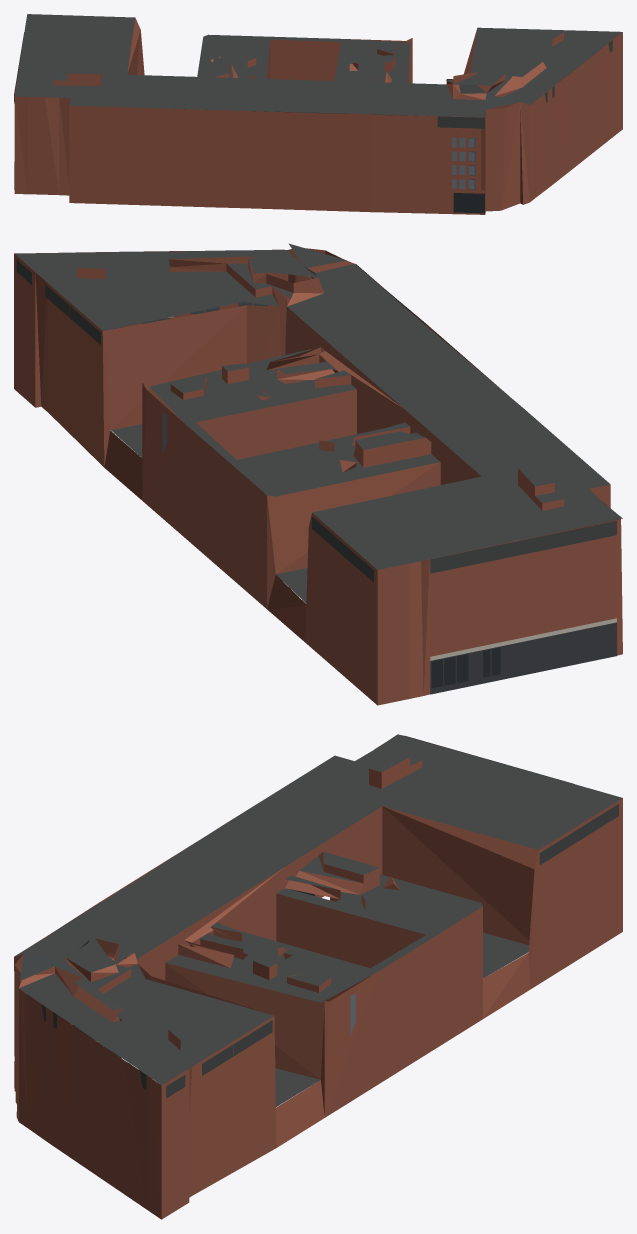
The model's file is jodenbreestraat-11.lod1.glb.
3 views of the same model, one above another, from view 1: azimuth 30°, elevation 25°; view 2: azimuth 150°, elevation 25°; view 3: azimuth 270°, elevation 25° (orthographic). The views are drawn at different scales.
Parts seen in each view (by area): view 1: jodenbreestraat-11; view 2: jodenbreestraat-11; view 3: jodenbreestraat-11.
Boxes of the visible parts, box(x1,y1,x2,y2) form: jodenbreestraat-11: box(14, 14, 622, 214); jodenbreestraat-11: box(14, 243, 622, 705); jodenbreestraat-11: box(14, 734, 622, 1219).
Bounding box in the file's own units: 129 × 25.9 × 94.16.
